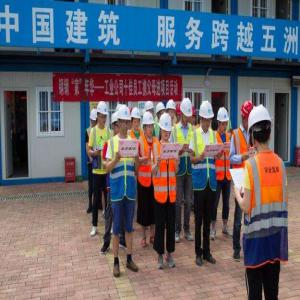red: (242, 101, 255, 131)
white: (249, 107, 275, 153), (199, 101, 215, 131), (118, 107, 133, 137), (160, 113, 173, 142), (180, 98, 193, 125), (143, 112, 155, 138), (98, 100, 109, 127), (218, 108, 229, 133), (167, 99, 177, 122), (132, 109, 142, 131), (112, 115, 121, 135), (91, 108, 99, 127)
